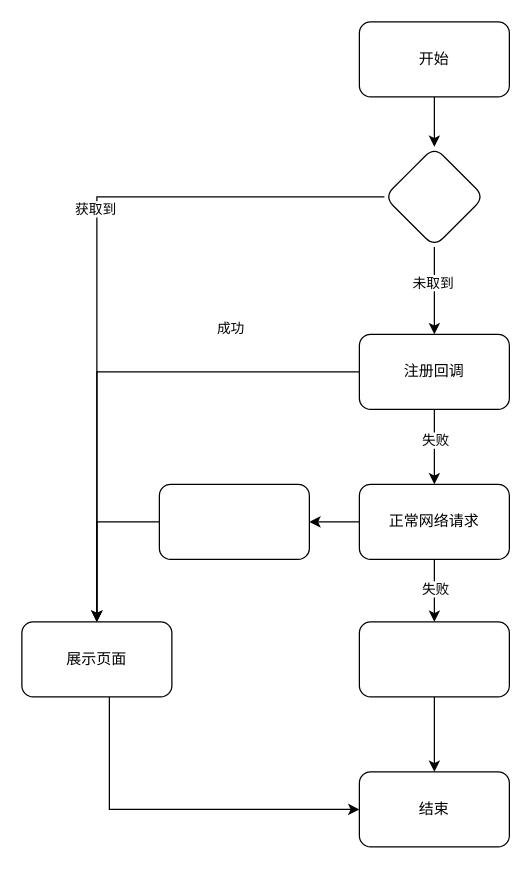
The diagram is 531 pixels wide and 869 high, and some of its shapes have lost their labels. Here are the shapes that lost their labels. From the top down, the box of each, then its label:
(383, 146, 484, 247): 获取缓存
(158, 483, 309, 559): 存入缓存
(358, 621, 509, 697): 展示失败页面
